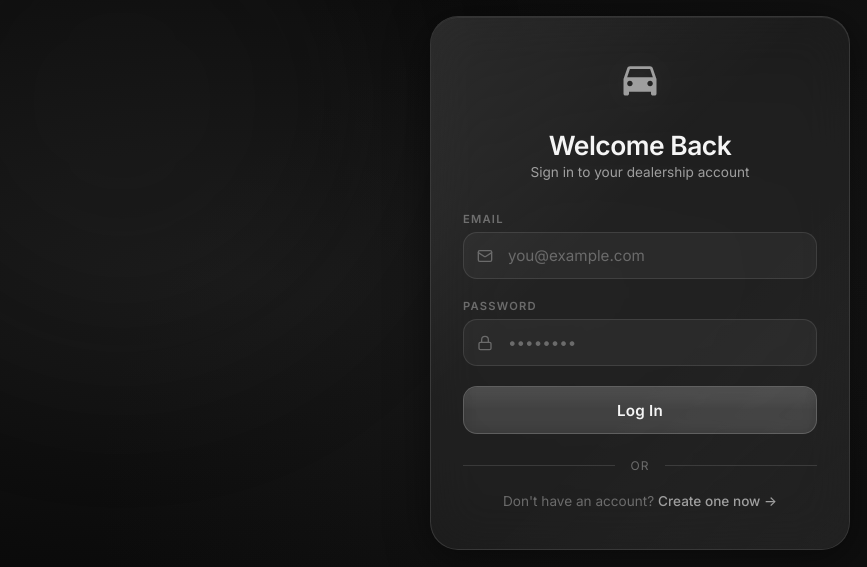
LoginPage › disables submit button while login is in progress
This screenshot has width=867, height=567.
Type "user@example.com" into the field labelled "Email" at (640,256), box x1=463 y1=232 x2=817 y2=279
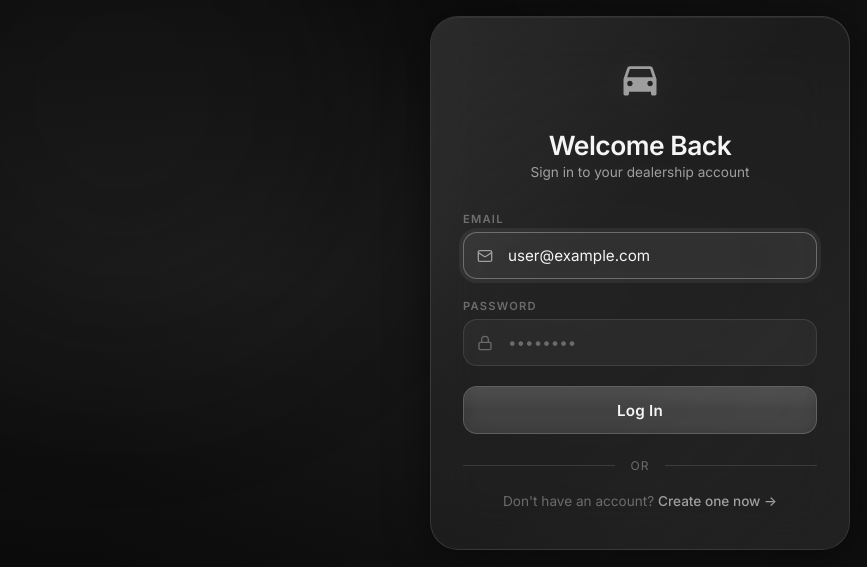
Type "password123" into the password field labelled "Password" at (640,343), box x1=463 y1=319 x2=817 y2=366
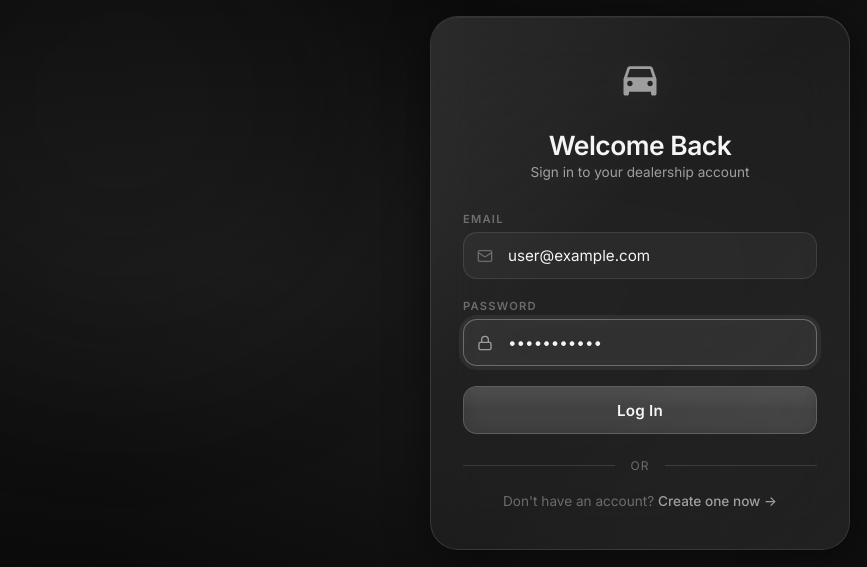
Click the button "Log In" at (640,410), box x1=463 y1=386 x2=817 y2=434
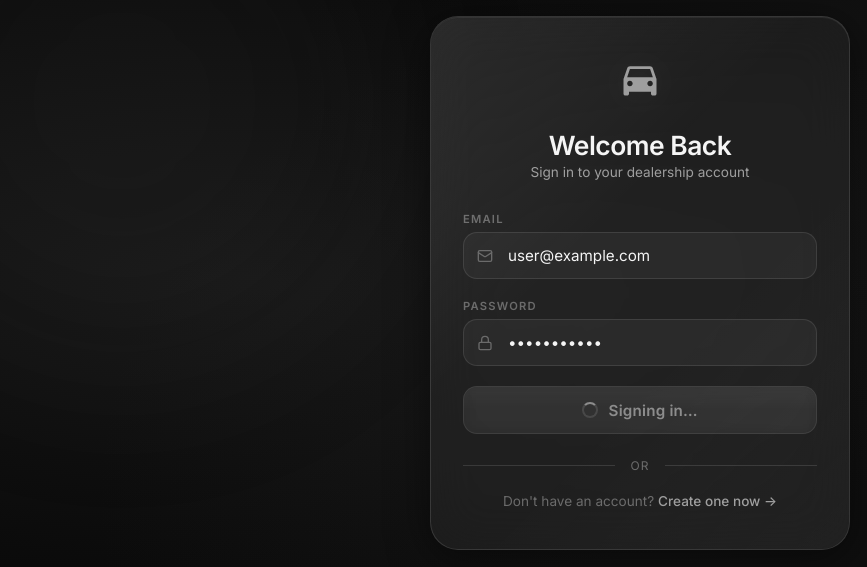
Expected: the button "Signing in…" is disabled, x1=463 y1=386 x2=817 y2=434
